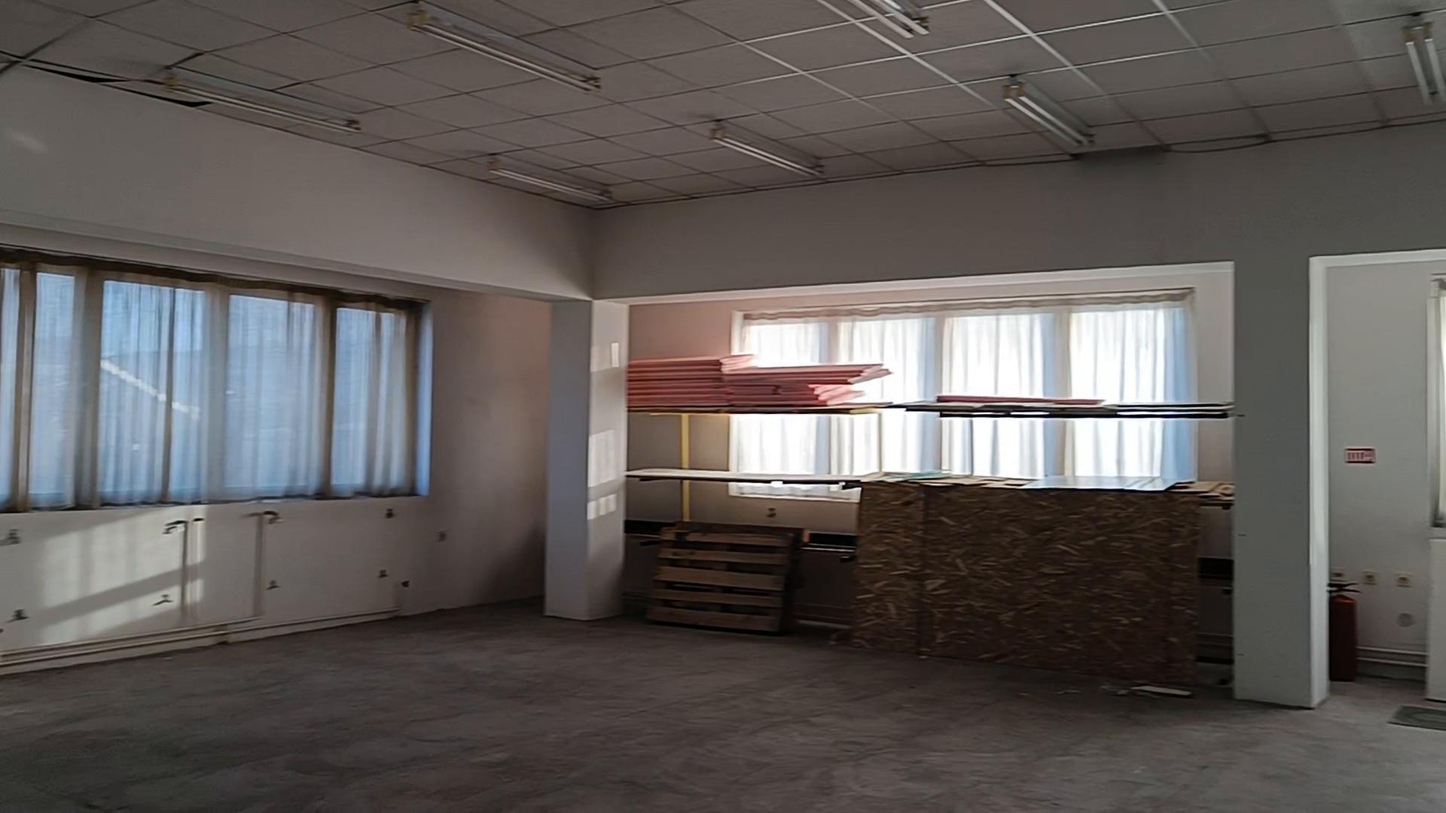ceiling: (0, 0, 1445, 206)
floor: (0, 607, 1445, 812)
pillar: (544, 301, 628, 620)
